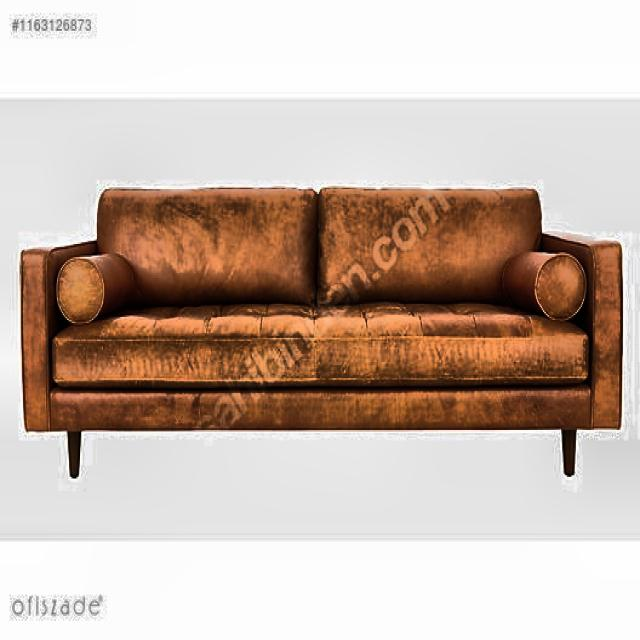sofa: (19, 182, 623, 478)
